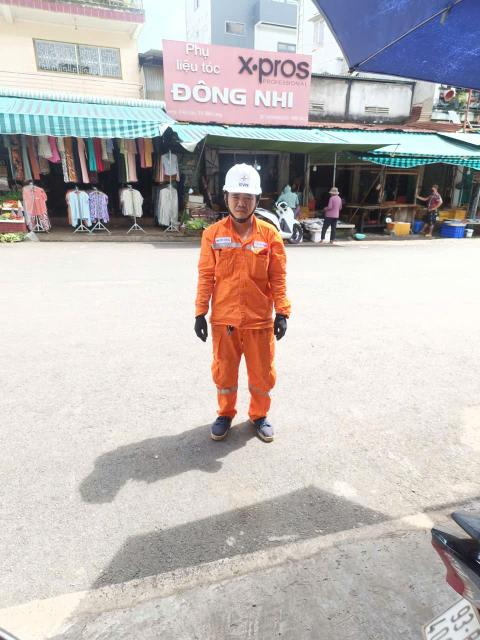gloves: (186, 308, 218, 346), (264, 306, 297, 342)
helmet: (218, 154, 268, 201)
shoes: (246, 409, 280, 446), (206, 406, 234, 444)
